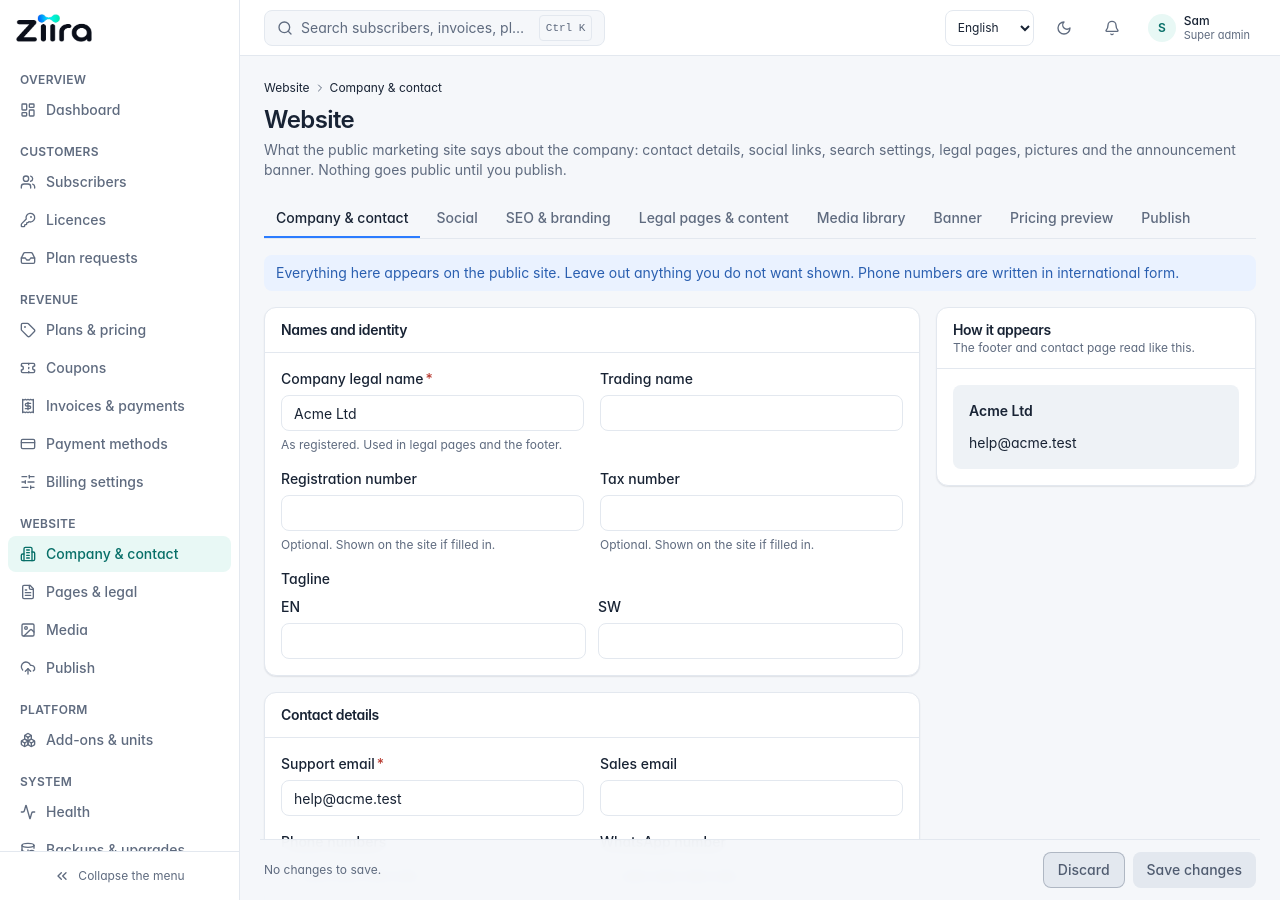
company and contact › shows the server's own message beside the field it refused
Type "Acme" into the field labelled "Trading name". click: (752, 413)
box: [600,395,903,431]
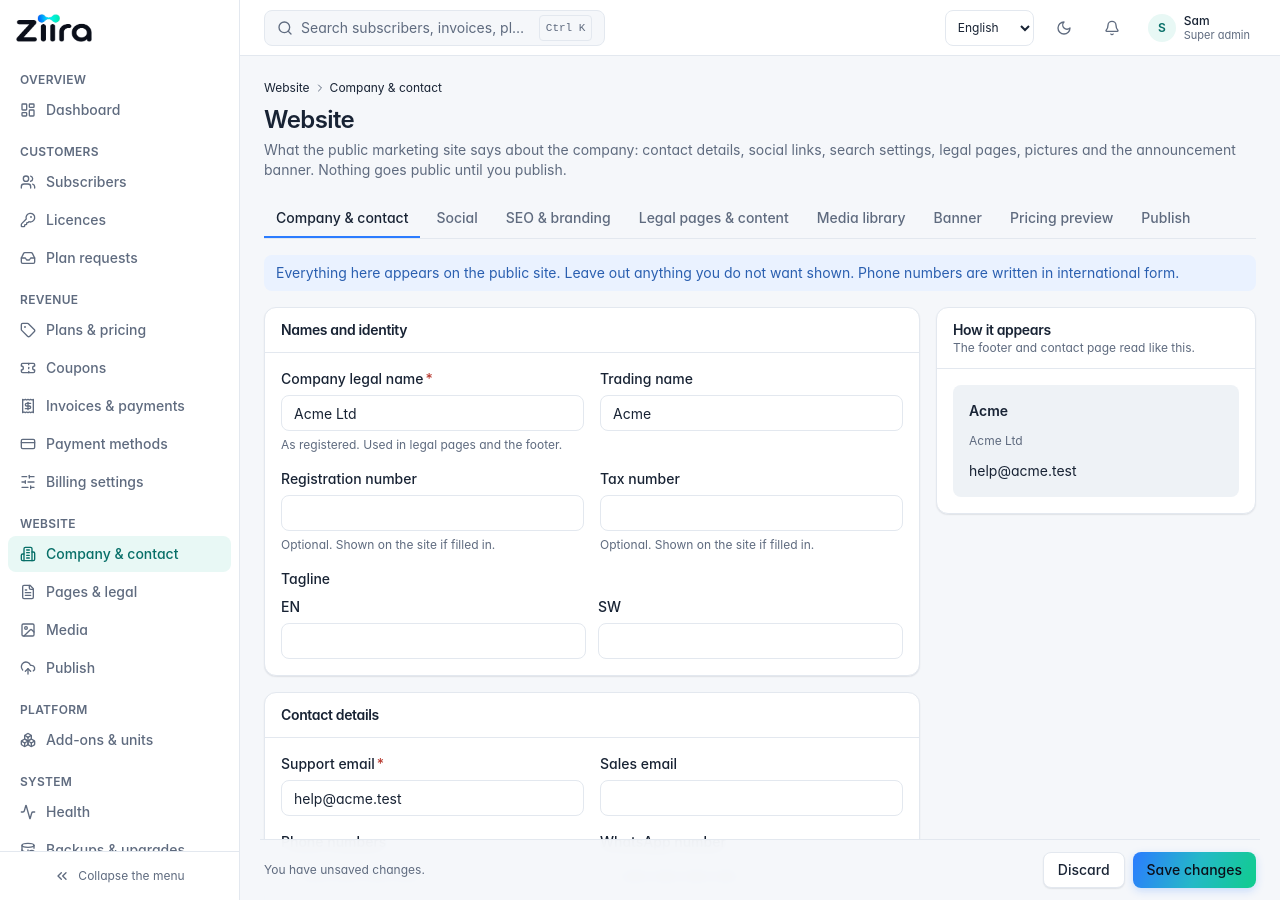
Click the button "Save changes". click: (1194, 870)
box: [1132,852,1256,888]
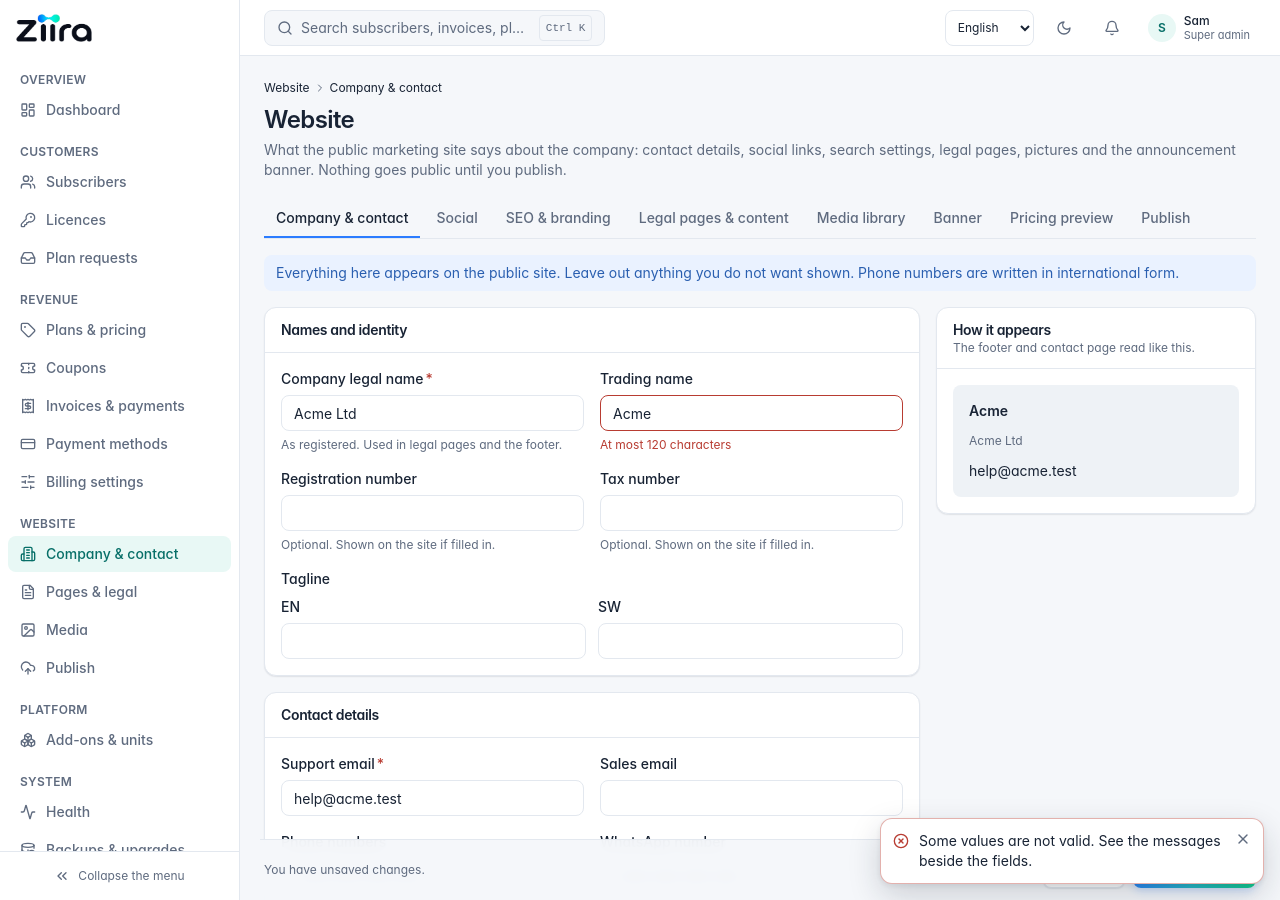
expect the text "At most 120 characters" is shown: met, box [600,437,731,452]
